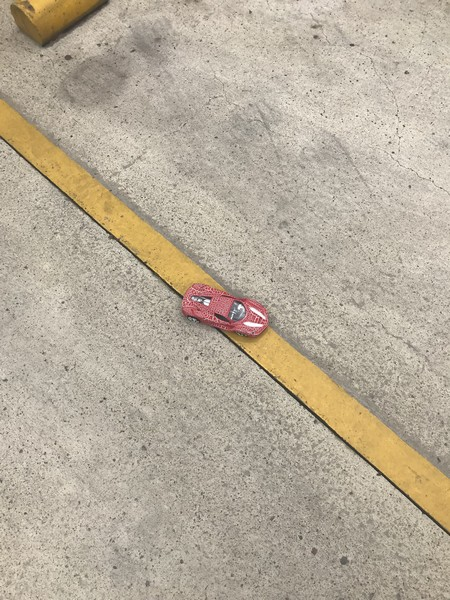RC: (179, 280, 270, 338)
